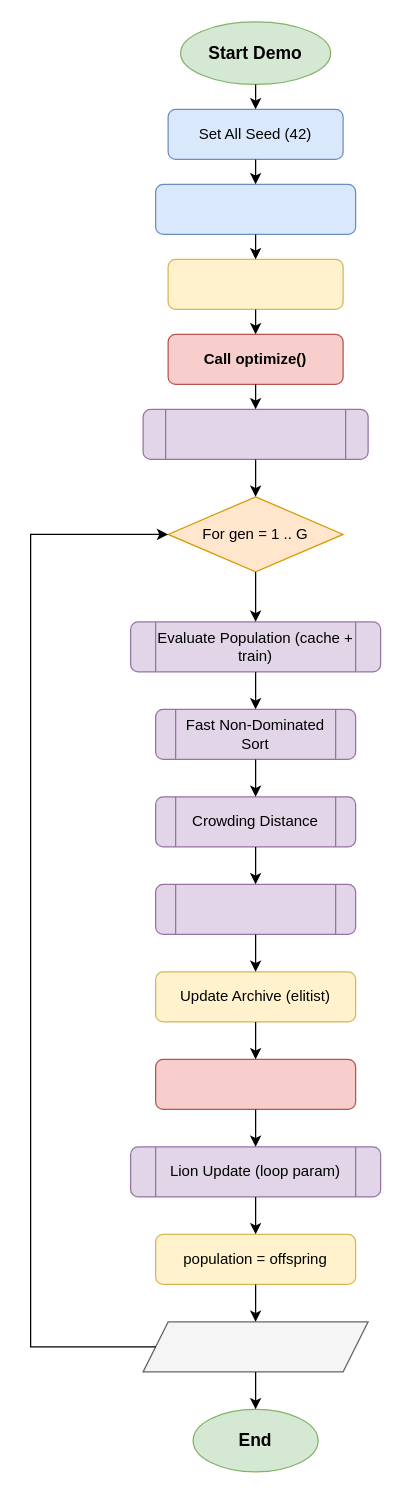
The diagram is 403 pixels wide and 1494 high, and some of its shapes have lost their labels. The box of each missing label's shape, as (x1, y1, x2, y2) in pixels:
Get Front-0: (154, 1058, 356, 1109)
Initialize Population & Momentum: (142, 408, 368, 459)
Instantiate MOLO: (167, 258, 343, 309)
Load & Preprocess CIFAR-10: (154, 183, 356, 234)
Print Gen Stats + HV: (142, 1321, 368, 1372)
Select Parents (NSGA-II): (154, 883, 356, 934)
